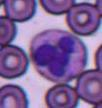N: (30, 28, 87, 84)
